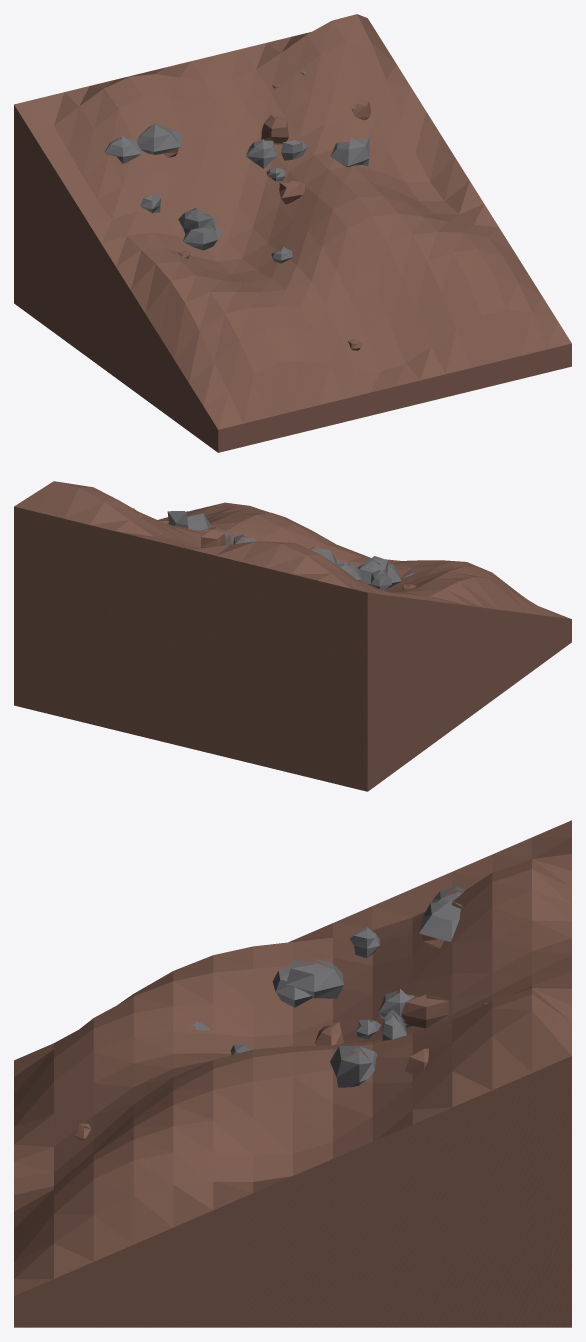
The model's file is volcano-and-lava-fields-volcano-and-lava-fields-cone-f-eb91eab3__37433.glb.
The picture shows the model from 3 angles, top to bottom: view 1: azimuth 30°, elevation 25°; view 2: azimuth 150°, elevation 25°; view 3: azimuth 270°, elevation 25°; orthographic projection. The views are drawn at different scales.
Visible parts, largest first — view 1: volcano-and-lava-fields-cone-flank-module-medium; view 2: volcano-and-lava-fields-cone-flank-module-medium; view 3: volcano-and-lava-fields-cone-flank-module-medium.
Boxes of the visible parts, x1,y1,x2,y2 form: volcano-and-lava-fields-cone-flank-module-medium: (14,14,571,452); volcano-and-lava-fields-cone-flank-module-medium: (14,481,571,791); volcano-and-lava-fields-cone-flank-module-medium: (14,820,571,1327).
Size of the model in its own units: 4 by 2.38 by 4.
2 materials, 2 textured.
